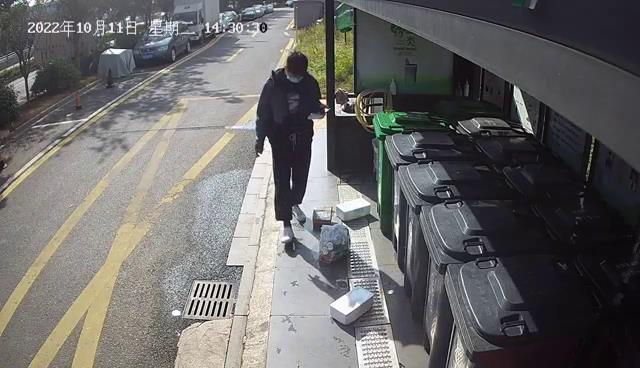person: (253, 49, 331, 244)
suliaozhipin: (317, 223, 352, 266)
zhizhipin: (329, 286, 374, 325), (335, 197, 371, 221), (312, 207, 334, 224)
